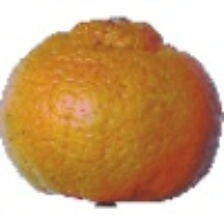tangerine: (19, 26, 201, 186)
